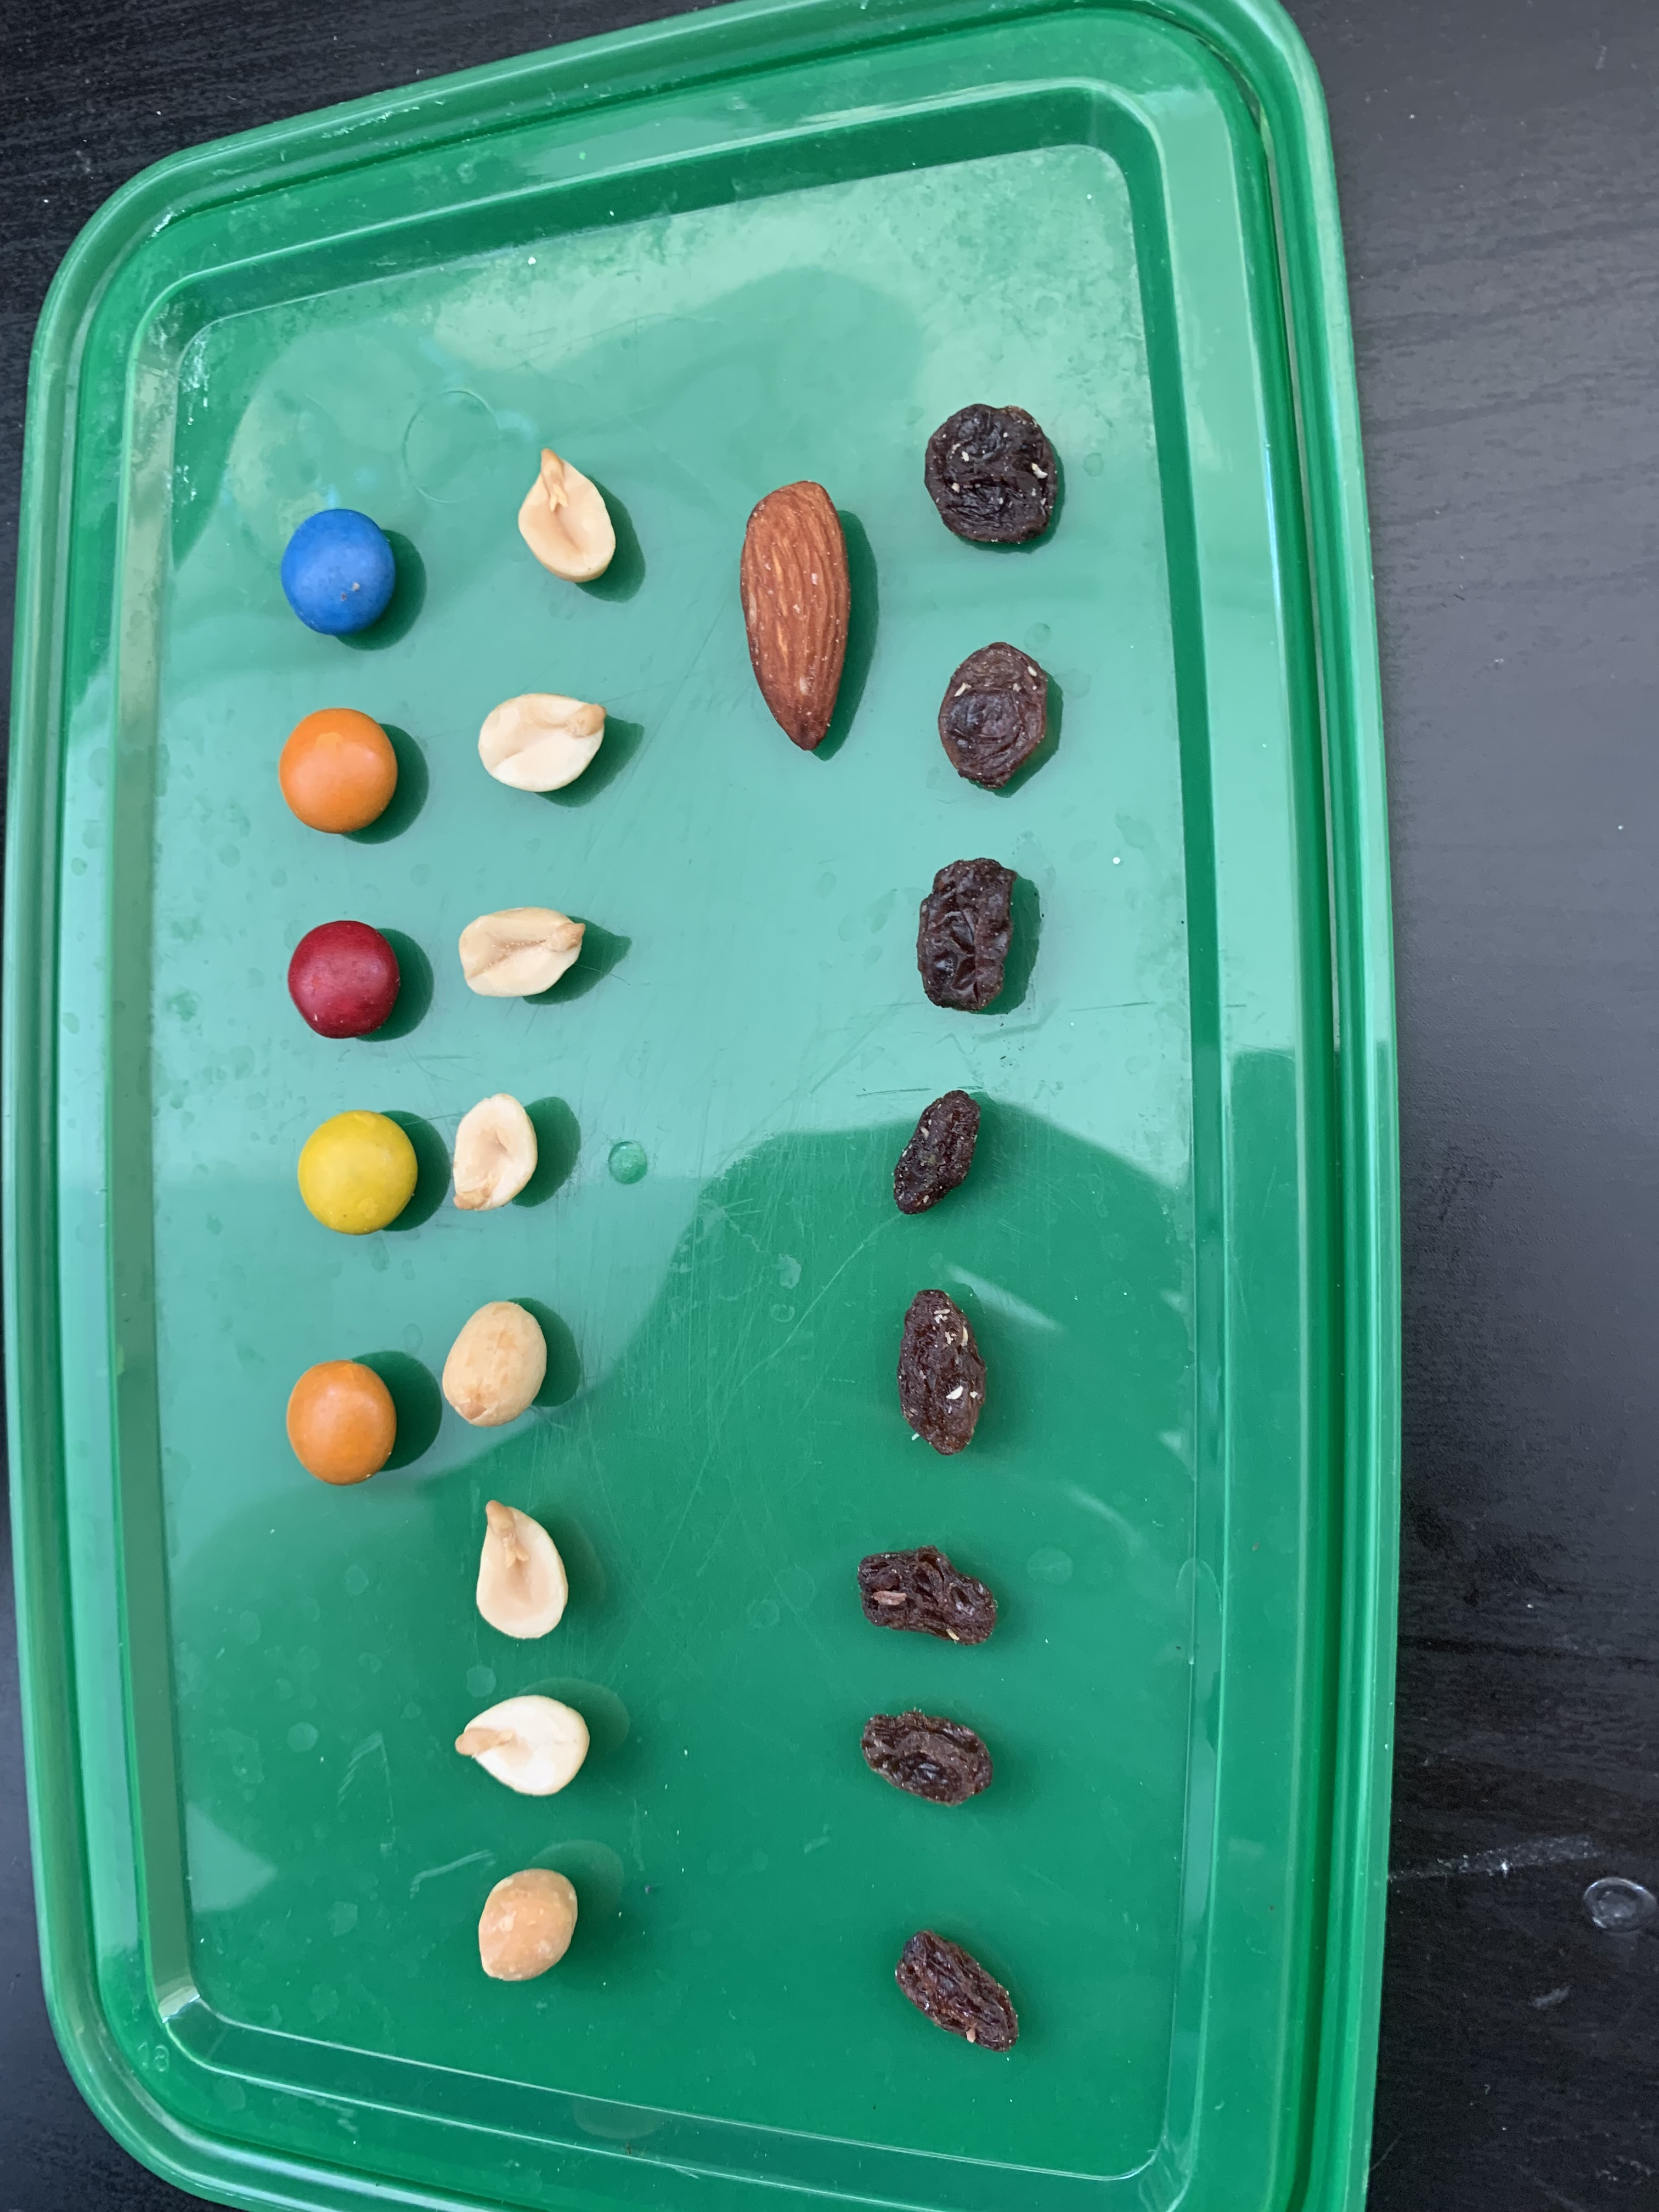almond: (735, 477, 852, 752)
mm: (279, 709, 401, 834), (279, 507, 396, 637), (296, 1109, 418, 1233), (286, 1359, 397, 1487), (288, 920, 403, 1040)
peanut: (453, 1691, 591, 1797), (516, 449, 620, 585), (476, 688, 608, 792), (474, 1500, 572, 1641), (443, 1301, 547, 1426), (457, 902, 589, 1000), (477, 1865, 579, 1980), (450, 1092, 538, 1212)
raisin: (924, 402, 1063, 550), (936, 641, 1054, 782), (894, 1928, 1021, 2054), (917, 857, 1016, 1015), (854, 1541, 999, 1649), (896, 1289, 986, 1458), (863, 1709, 995, 1806), (890, 1090, 985, 1212)
